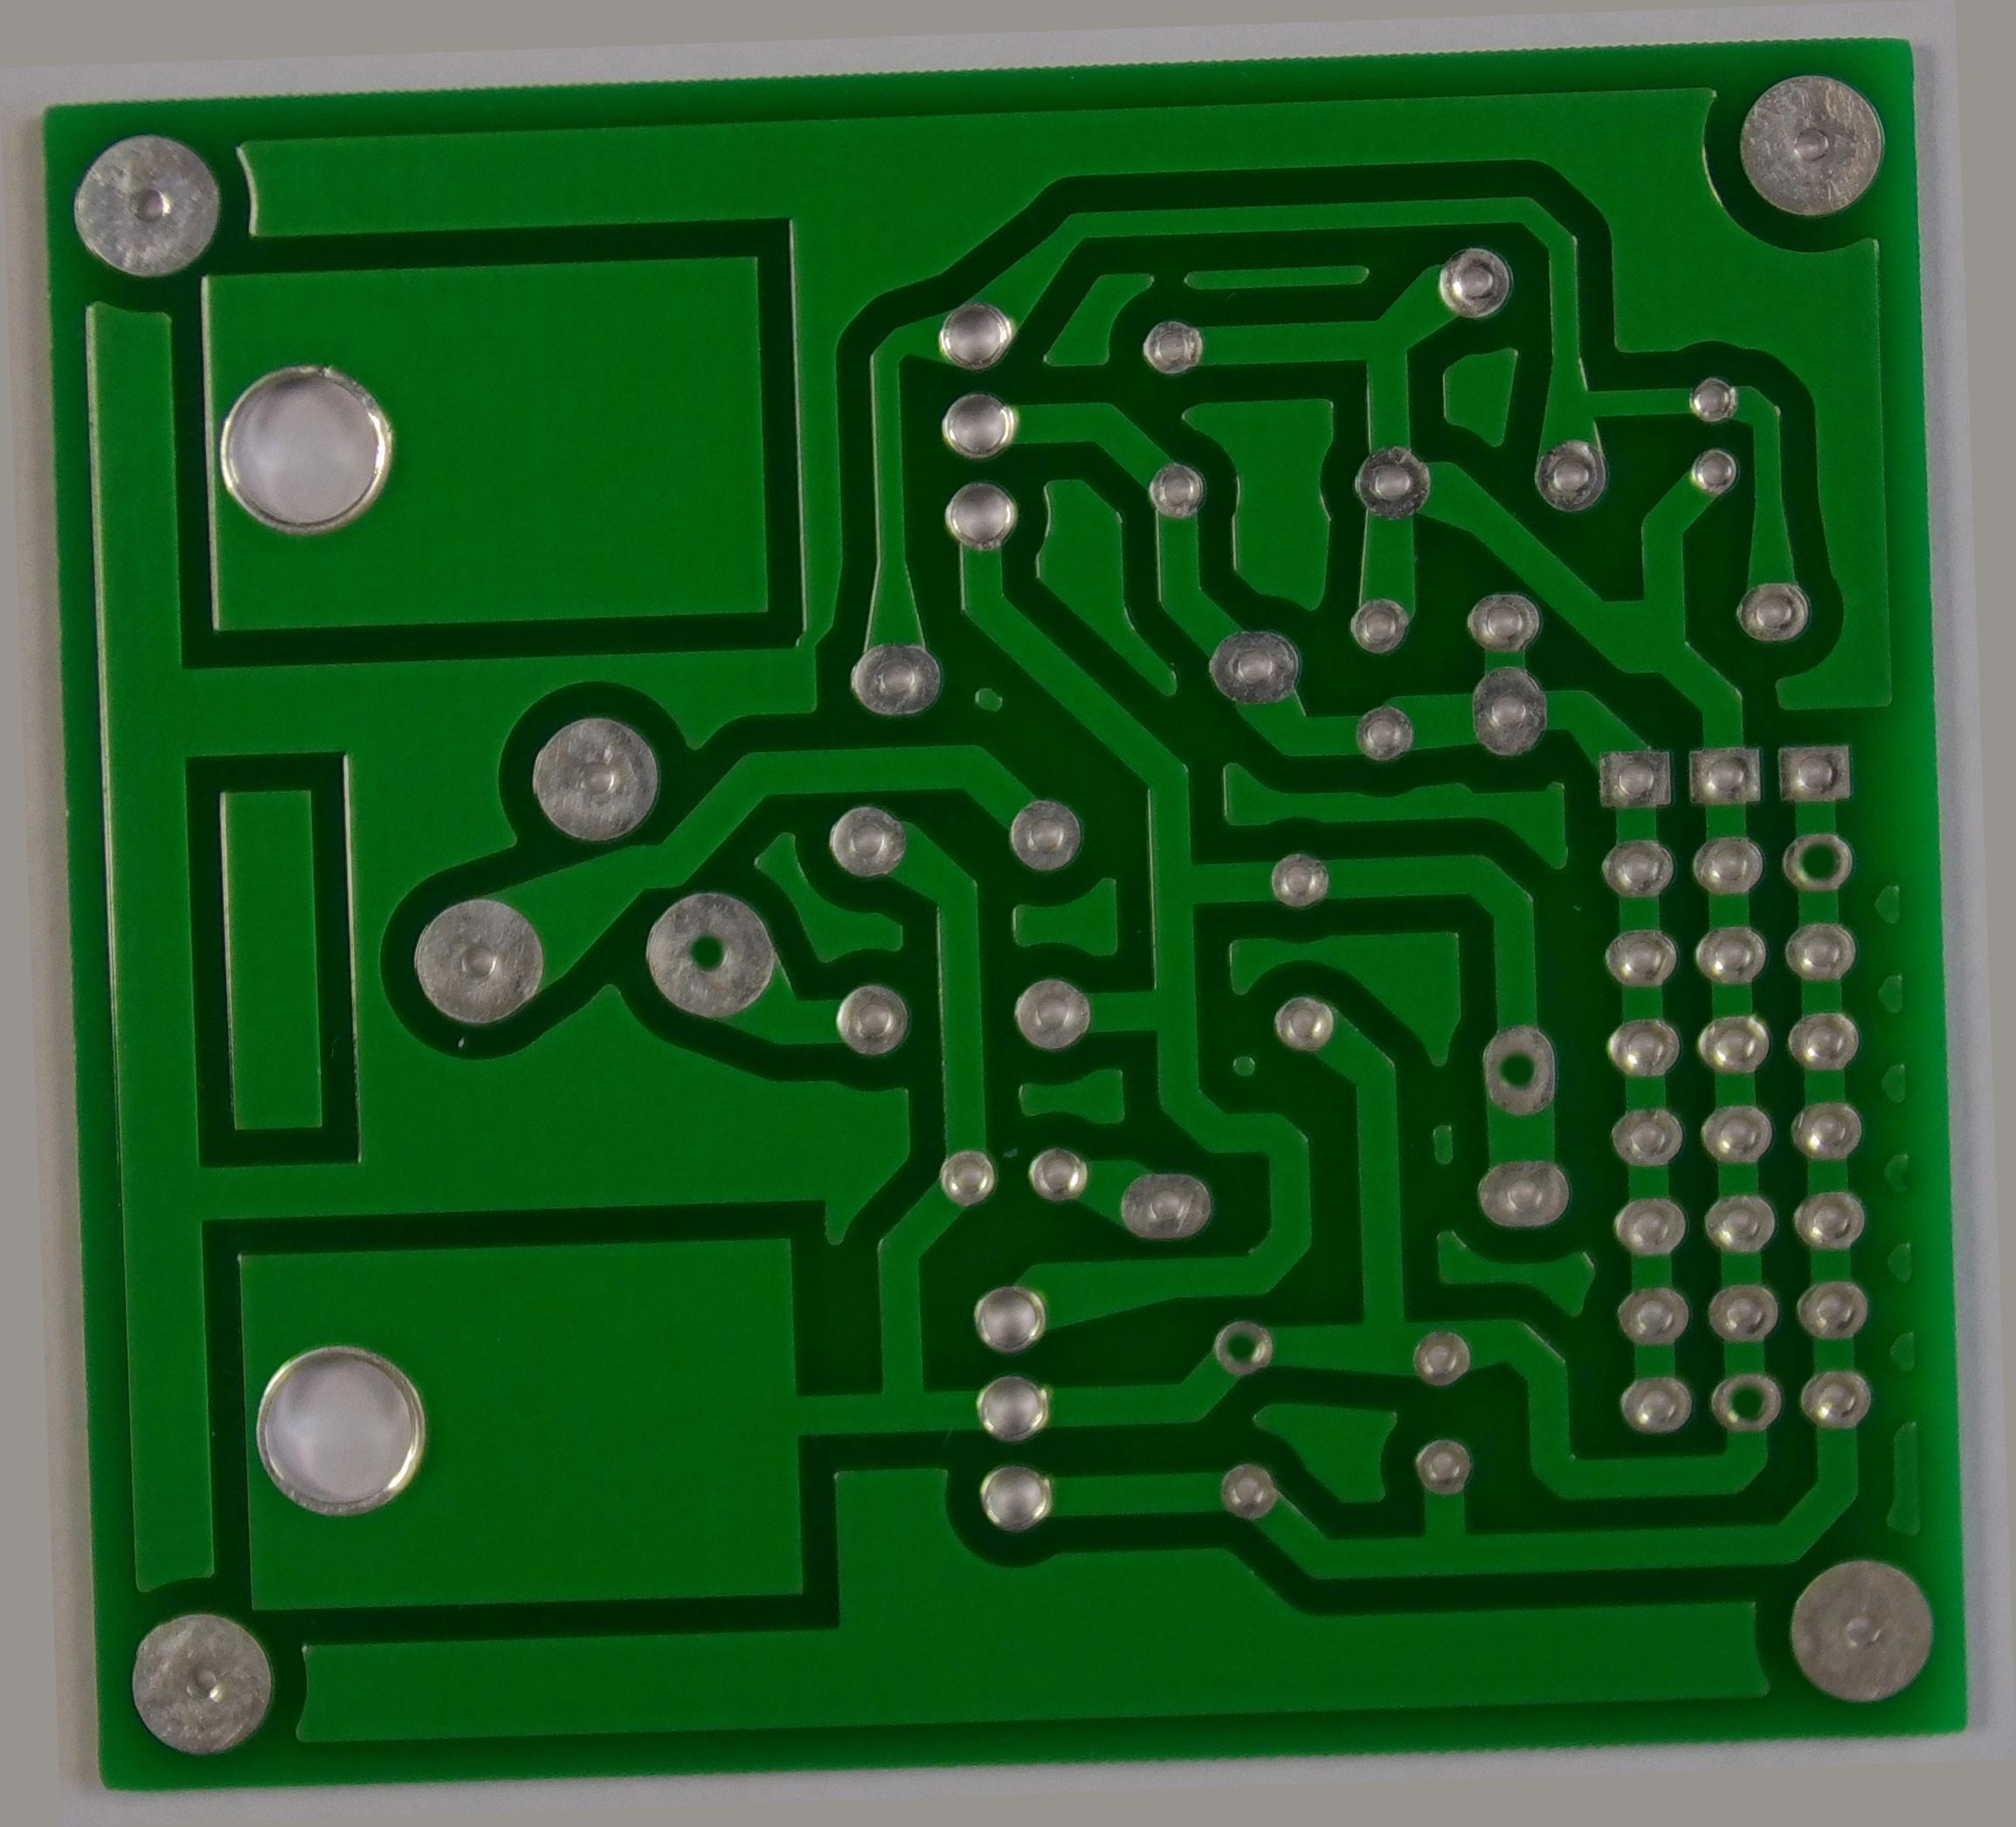missing_hole: (646, 879, 759, 1002), (1493, 1055, 1568, 1139), (1811, 855, 1879, 925), (1719, 1420, 1788, 1481), (1205, 1341, 1266, 1401)
